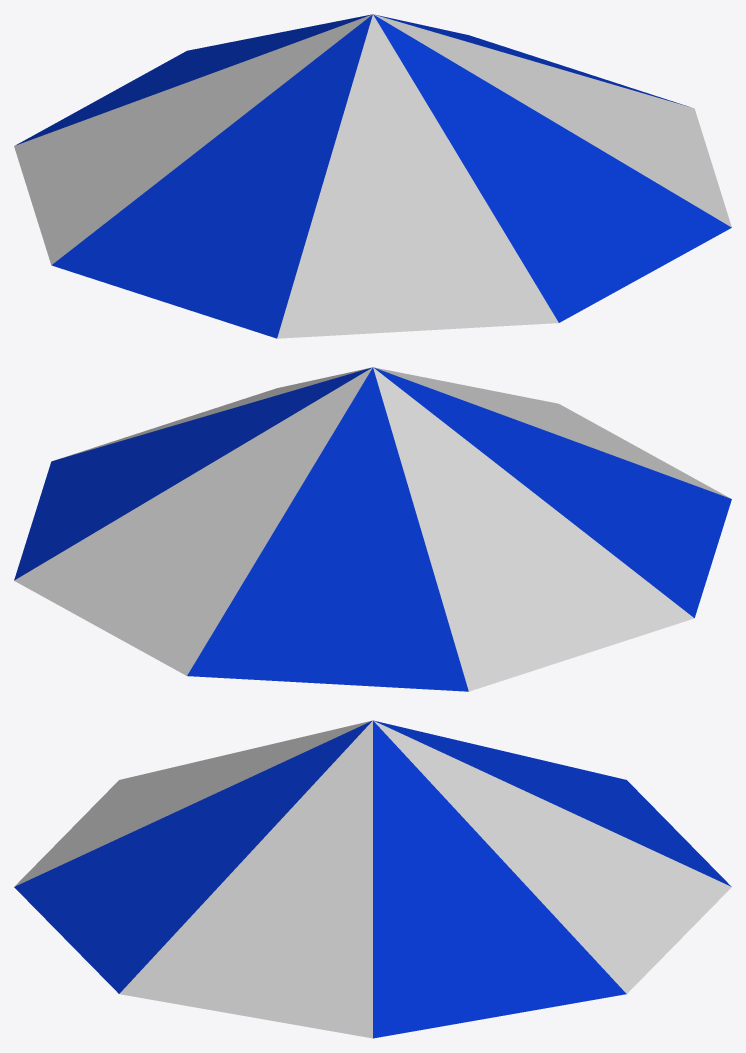
Rendered from Spreader.obj.
3 renders of one model, top to bottom at view 1: azimuth 30°, elevation 25°; view 2: azimuth 150°, elevation 25°; view 3: azimuth 270°, elevation 25°, orthographic. The views are drawn at different scales.
Parts seen in each view (by area): view 1: Cone; view 2: Cone; view 3: Cone.
Part boxes in pixels (bbox=[...]): Cone: bbox=[14, 14, 731, 338]; Cone: bbox=[14, 367, 731, 691]; Cone: bbox=[14, 720, 731, 1038].
Size of the model in its own units: 3.02 by 0.7744 by 3.02.
